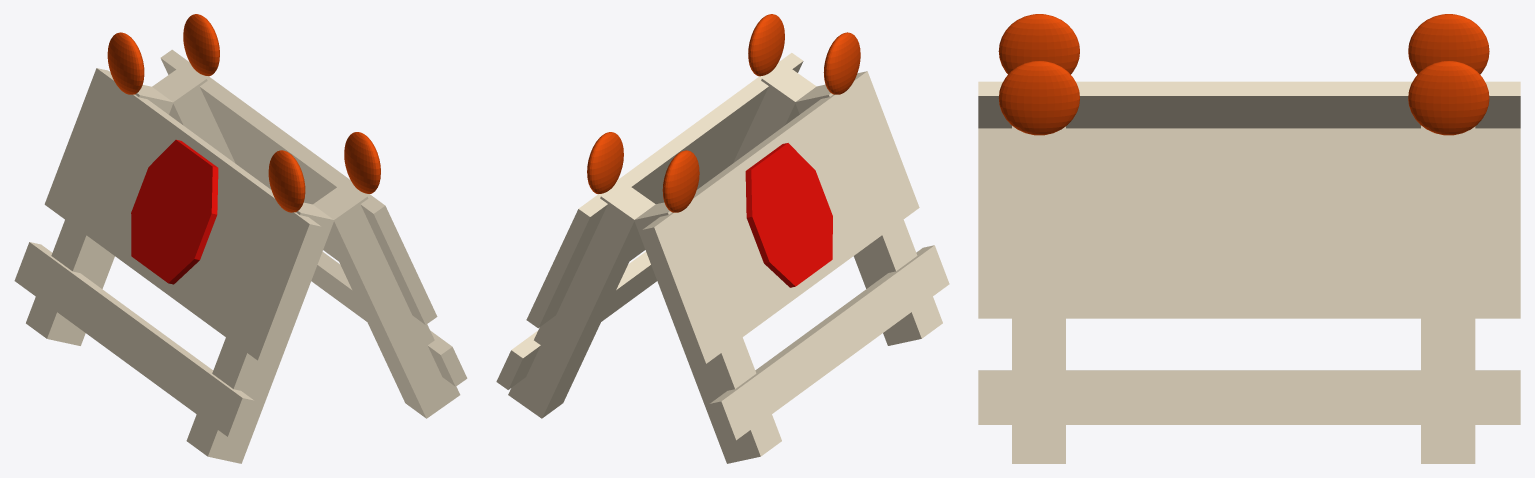
Rendered from Barricade_stop.fbx.
3 renders of one model, left to right at view 1: azimuth 30°, elevation 25°; view 2: azimuth 150°, elevation 25°; view 3: azimuth 270°, elevation 25°, orthographic. The views are drawn at different scales.
Visible parts, largest first — view 1: StopBarricade; view 2: StopBarricade; view 3: StopBarricade.
Boxes of the visible parts, <box> form: StopBarricade: <box>14,14,467,463</box>; StopBarricade: <box>496,14,949,463</box>; StopBarricade: <box>978,14,1520,463</box>.
Size of the model in its own units: 274 by 300 by 400.
